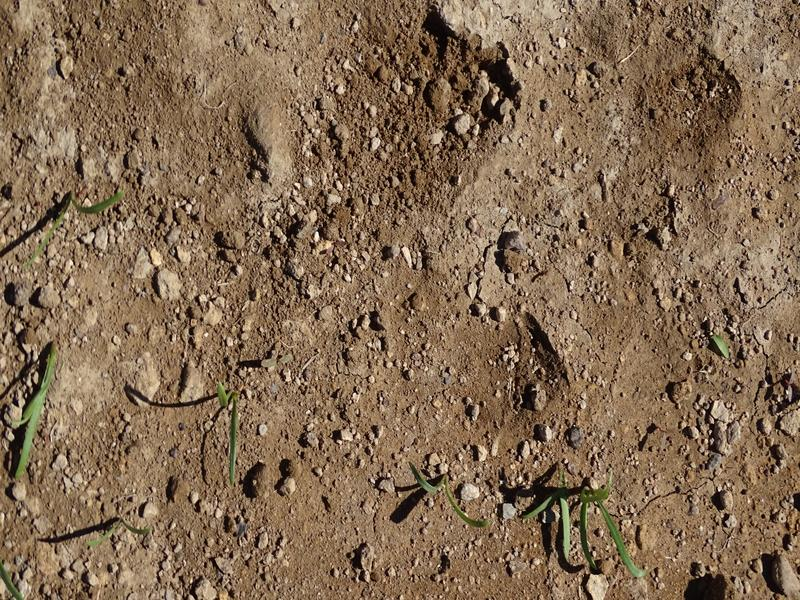Espinaca: (529, 478, 650, 582), (4, 336, 69, 477), (26, 182, 136, 253), (404, 455, 493, 528), (209, 383, 252, 488)
